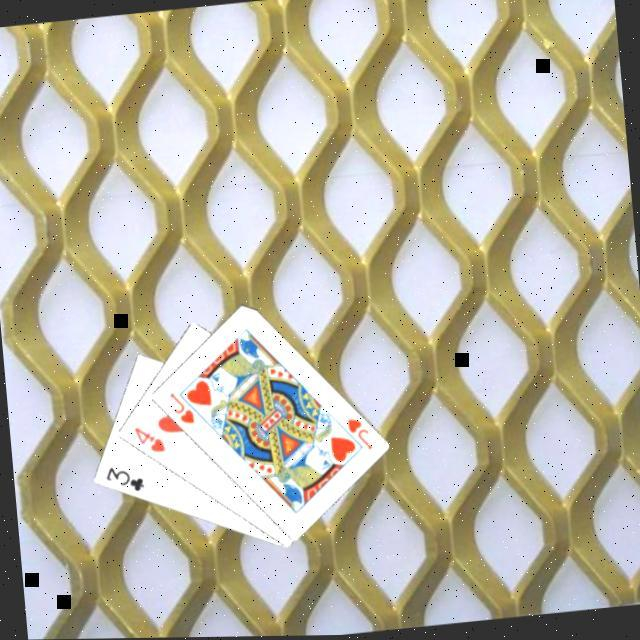3C: (99, 462, 145, 500)
4H: (128, 423, 166, 460)
JH: (162, 389, 195, 431), (341, 416, 374, 458)
